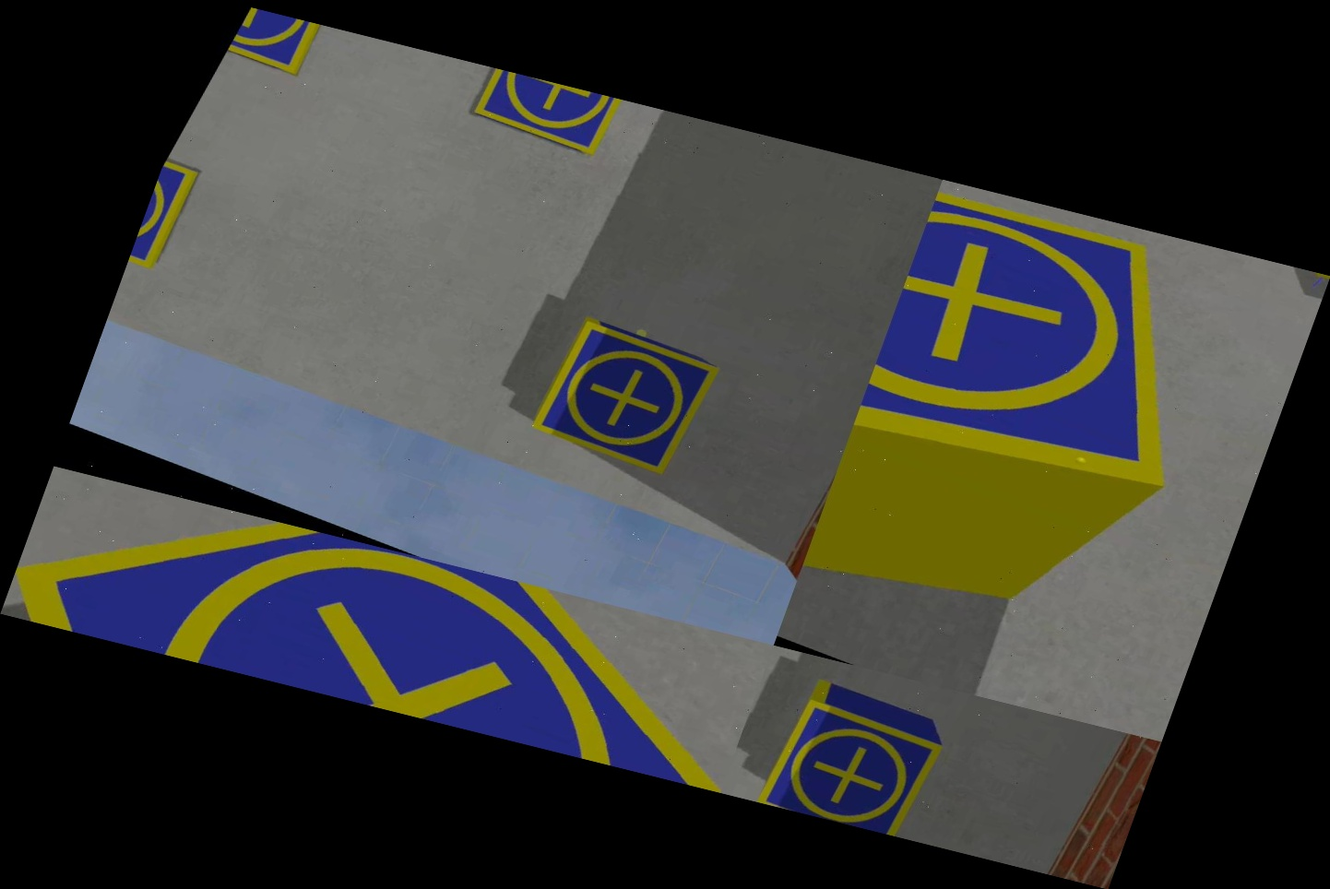small_base: (0, 466, 773, 792), (828, 180, 1282, 579), (518, 312, 729, 484), (752, 688, 952, 840), (462, 65, 628, 160), (126, 158, 208, 277), (223, 6, 333, 82)
